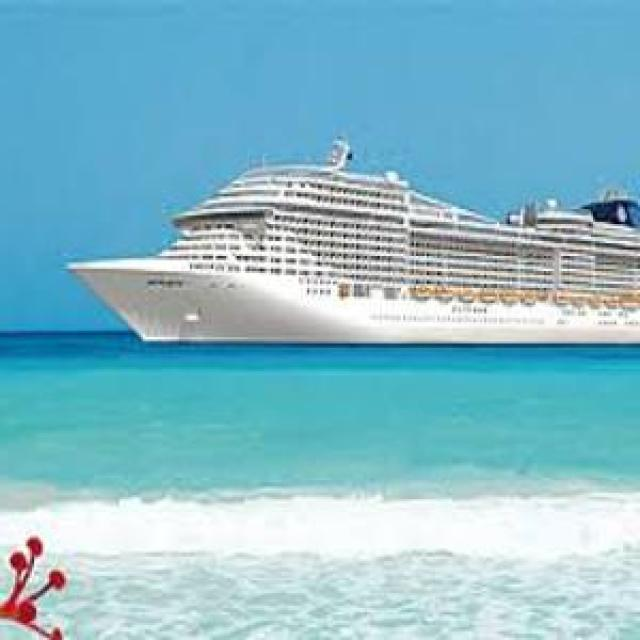passenger ship: (70, 153, 640, 343)
